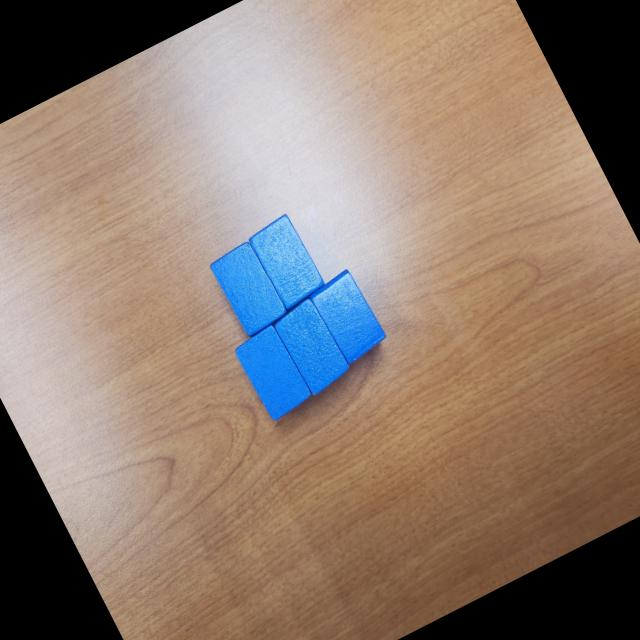blue: (269, 292, 356, 398), (231, 322, 318, 425), (245, 210, 331, 313), (306, 266, 392, 368), (207, 239, 292, 340)
